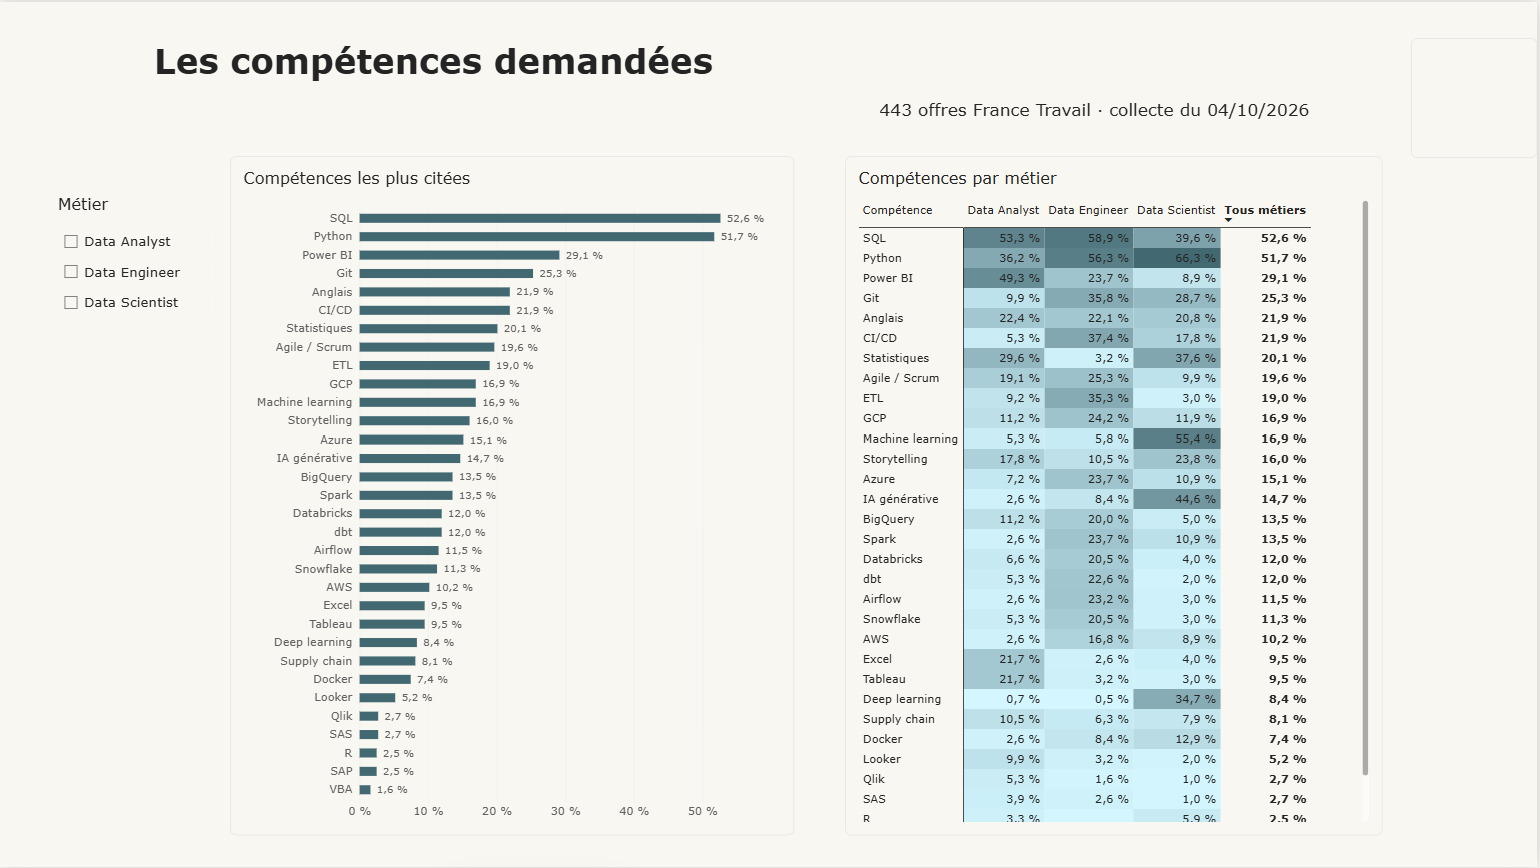

This screenshot's page, from the dashboard's own definition file:
{"tool":"powerbi","page":{"name":"Compétences","canvas":[1920,1080],"ordinal":1},"visuals":[{"type":"slicer","title":"Métier","fields":{"Values":["offres_clean.metier"]},"box":[72,240,192,192],"z":0},{"type":"barChart","title":"Compétences les plus citées","fields":{"Category":["competences.competence"],"Y":["_Table_Mesure.% offres citant"]},"box":[288,192,704,848],"z":7000},{"type":"textbox","box":[16,48,1232,80],"z":8000},{"type":"textbox","box":[192,48,1560,144],"z":9000},{"type":"FlowVisual_C29F1DCC_81F5_4973_94AD_0517D44CC06A","box":[1762,45,158,150],"z":9001},{"type":"pivotTable","title":"Compétences par métier","fields":{"Rows":["competences.competence"],"Columns":["offres_clean.metier"],"Values":["_Table_Mesure.% offres citant"]},"box":[1056,192,672,848],"z":9002}]}

Visuals, with their boxes in screenshot pixels (x1, y1, x2, y2), scaled from the page's 1920x1080 canvas onto the 1540x868 screenshot:
"Métier" slicer: <box>58,193,212,347</box>
"Compétences les plus citées" barChart: <box>231,154,796,836</box>
textbox: <box>13,39,1001,103</box>
textbox: <box>154,39,1405,154</box>
FlowVisual_C29F1DCC_81F5_4973_94AD_0517D44CC06A: <box>1413,36,1539,157</box>
"Compétences par métier" pivotTable: <box>847,154,1386,836</box>
